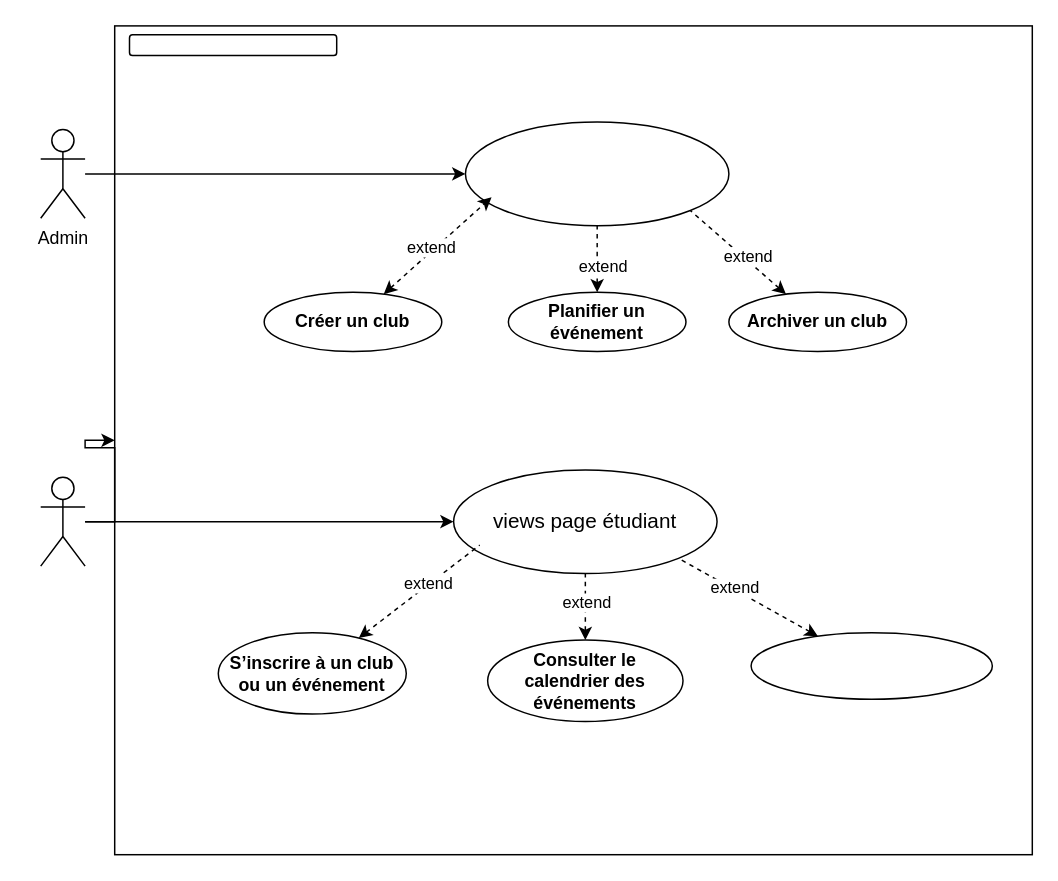
This 1058x881 diagram has some shape labels left out. The centre of each missing label's shape, as x and y in pixels:
"[Bonus] Recevoir des notifications par email" goes at pixel 871 665.
"views page admin" goes at pixel 596 173.
"YouClup" goes at pixel 232 44.
"étudiant" goes at pixel 62 521.
